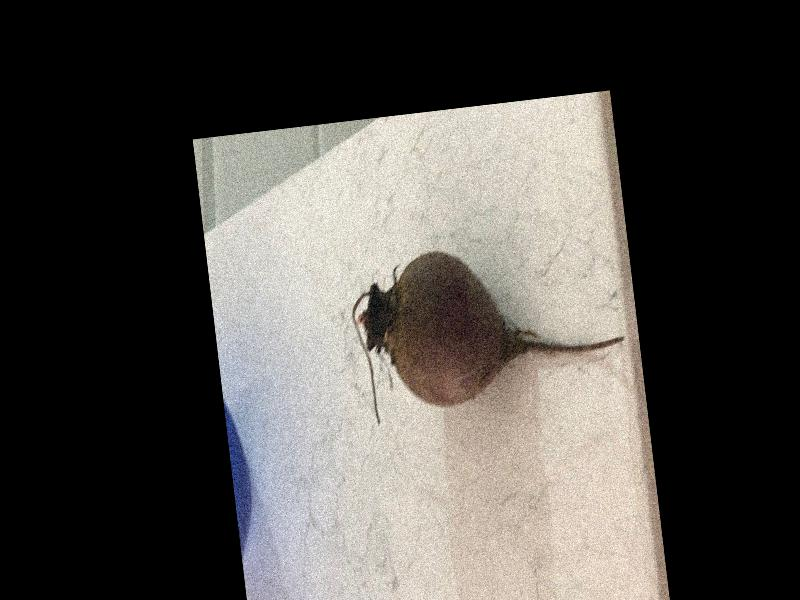Beet: (345, 232, 631, 427)
